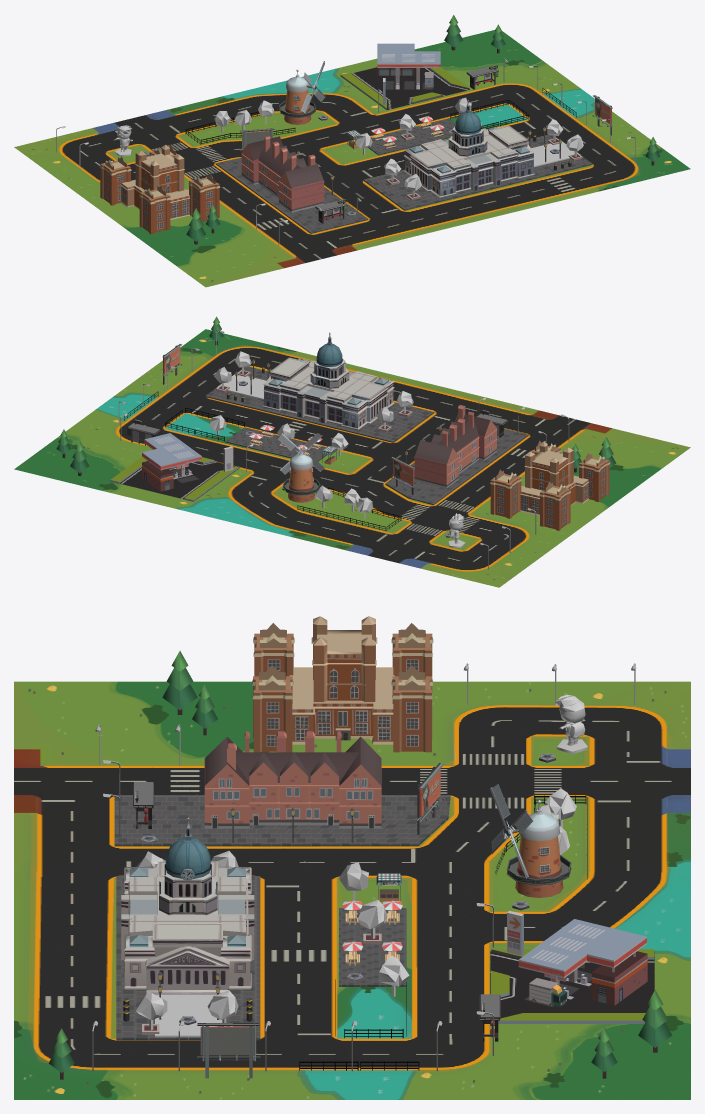
File: FINAL_MAP.FBX
3 views of the same model, one above another, from view 1: azimuth 30°, elevation 25°; view 2: azimuth 150°, elevation 25°; view 3: azimuth 270°, elevation 25° (orthographic). The views are drawn at different scales.
Visible parts, largest first — view 1: MARKER, councilhouse, wollatonhall, museumofnottingham, walk_road2, petrol_01, walk_road, Petrol_03, walk_road3, greenmill, blackfence, Grey_road (+4 smaller); view 2: MARKER, councilhouse, wollatonhall, museumofnottingham, walk_road2, petrol_01, walk_road, Petrol_03, greenmill, walk_road3, blackfence, petrol_02 (+6 smaller); view 3: MARKER, wollatonhall, councilhouse, museumofnottingham, walk_road, petrol_01, Petrol_03, walk_road2, greenmill, walk_road3, petrol_02, Adboard1 (+9 smaller).
Part boxes in pixels (x1,y1,x2,y2): MARKER: (14,30,690,287); councilhouse: (404,100,536,198); wollatonhall: (100,144,220,234); museumofnottingham: (241,136,324,212); walk_road2: (363,134,592,210); petrol_01: (340,43,469,109); walk_road: (215,157,368,233); Petrol_03: (341,67,469,109); walk_road3: (368,118,455,155); greenmill: (279,69,315,124); blackfence: (185,88,576,144); Grey_road: (531,141,580,167); MARKER: (14,329,690,587); councilhouse: (262,332,394,430); wollatonhall: (490,440,610,530); museumofnottingham: (414,405,497,488); walk_road2: (205,367,434,442); petrol_01: (110,433,239,501); walk_road: (385,428,528,505); Petrol_03: (120,461,239,501); greenmill: (283,447,320,502); walk_road3: (225,427,327,461); blackfence: (124,391,401,530); petrol_02: (142,461,192,491); MARKER: (14,681,690,1099); wollatonhall: (252,616,433,752); councilhouse: (121,817,254,994); museumofnottingham: (204,731,381,828); walk_road: (114,795,450,846); petrol_01: (491,911,654,1023); Petrol_03: (490,951,654,1018); walk_road2: (116,876,260,1040); greenmill: (506,800,571,897); walk_road3: (339,908,406,986); petrol_02: (544,951,647,1005); Adboard1: (197,1023,260,1078).
Size of the model in its own units: 439 by 68.15 by 300.
